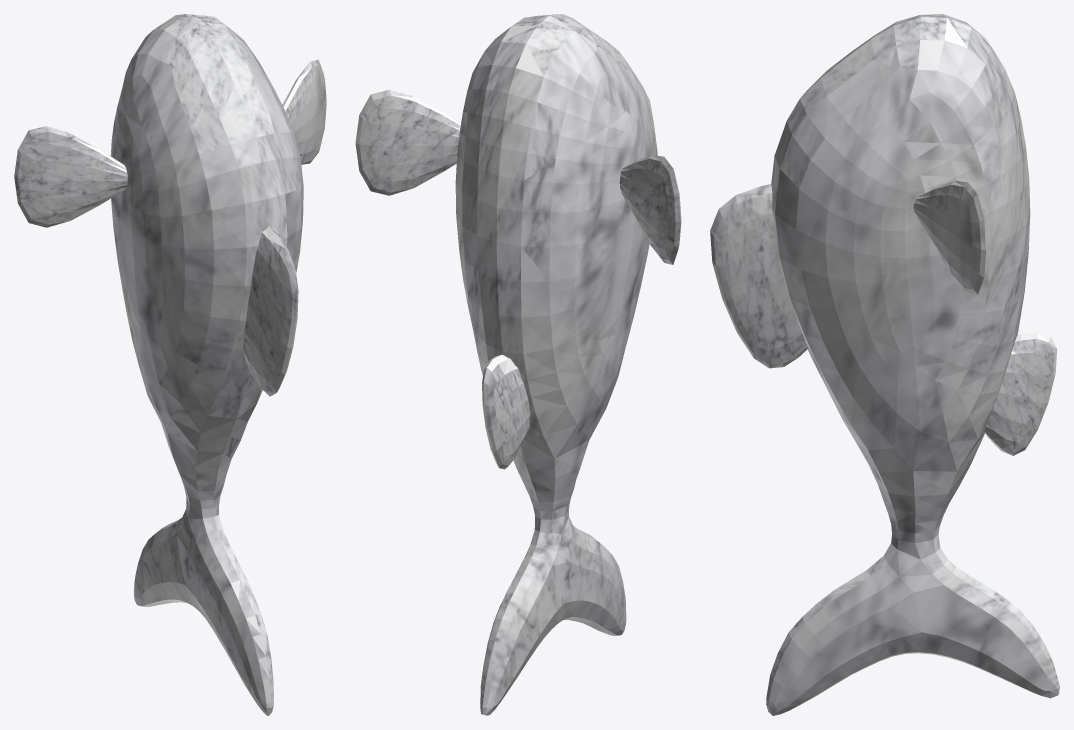
Rendered from white_fish.obj.
3 views of the same model, side by side, from view 1: azimuth 30°, elevation 25°; view 2: azimuth 150°, elevation 25°; view 3: azimuth 270°, elevation 25° (orthographic). The views are drawn at different scales.
Parts seen in each view (by area): view 1: Object.1; view 2: Object.1; view 3: Object.1.
Part boxes in pixels (x1,y1,x2,y2): Object.1: (14, 14, 326, 715); Object.1: (355, 14, 681, 715); Object.1: (710, 14, 1059, 715).
Size of the model in its own units: 88.19 by 174 by 79.09.
Materials: 2 (1 with a texture image).
